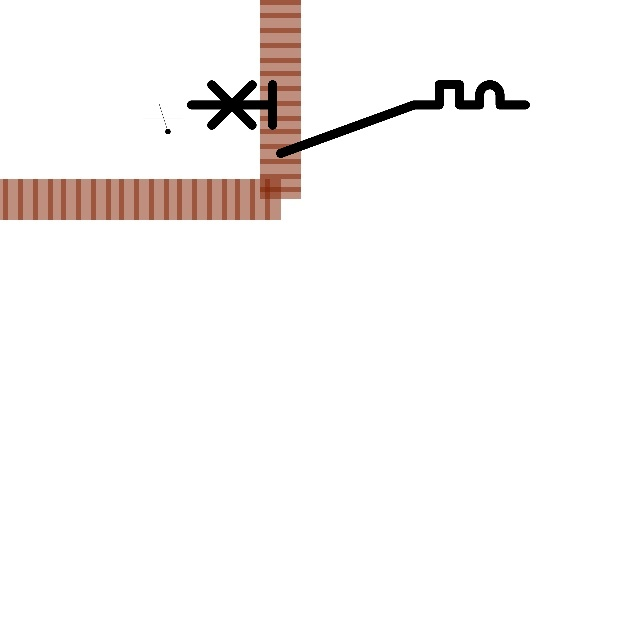interruptor_termomagnetico: (182, 76, 533, 162)
